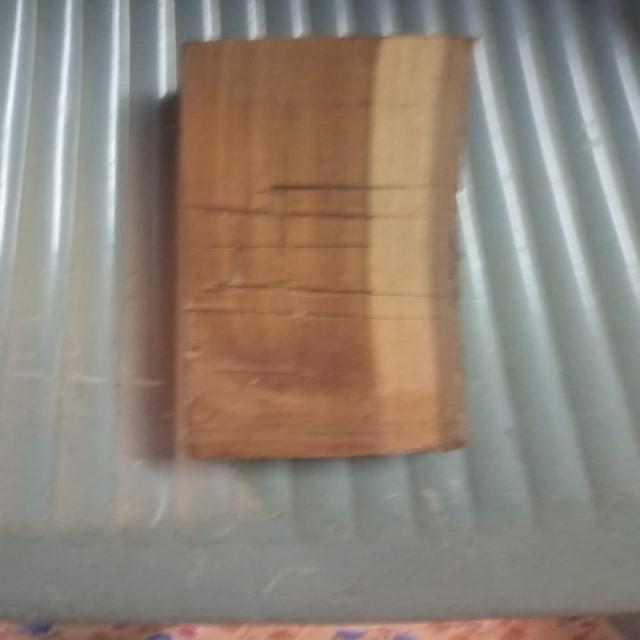litter: (30, 12, 535, 529)
